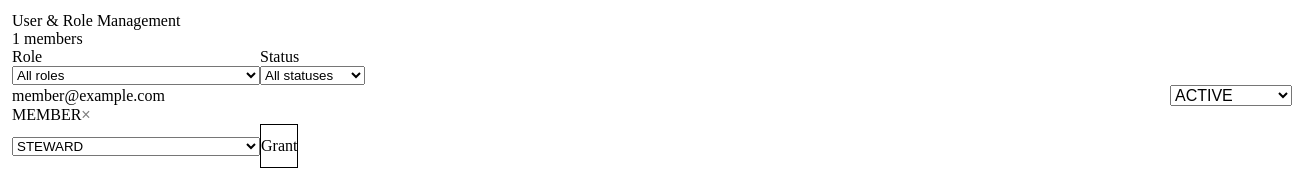
it: UserRoleManagementPanel › grants a role to a member
This screenshot has width=1304, height=185.
Expected: the text "member@example.com" is shown, [12,86,165,104]
Select "STEWARD" in the 2nd dropdown named "Grant a role to member@example.com" at [136, 146], box [12,136,260,156]
Click the button "Grant" at [279, 146], box [260,124,298,168]
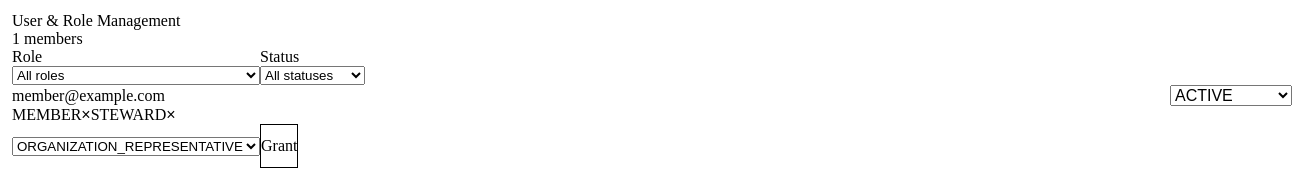
Result: the button named "Revoke STEWARD from member@example.com" is shown at [166,107,176,123]
